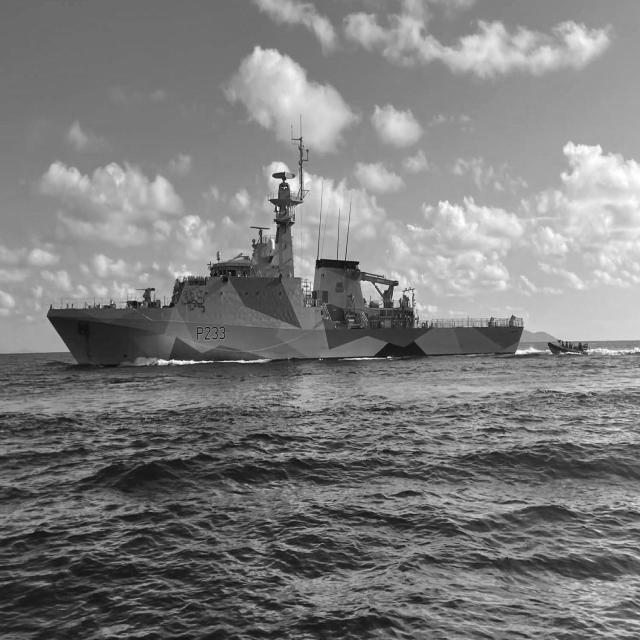Naval: (38, 112, 534, 386)
